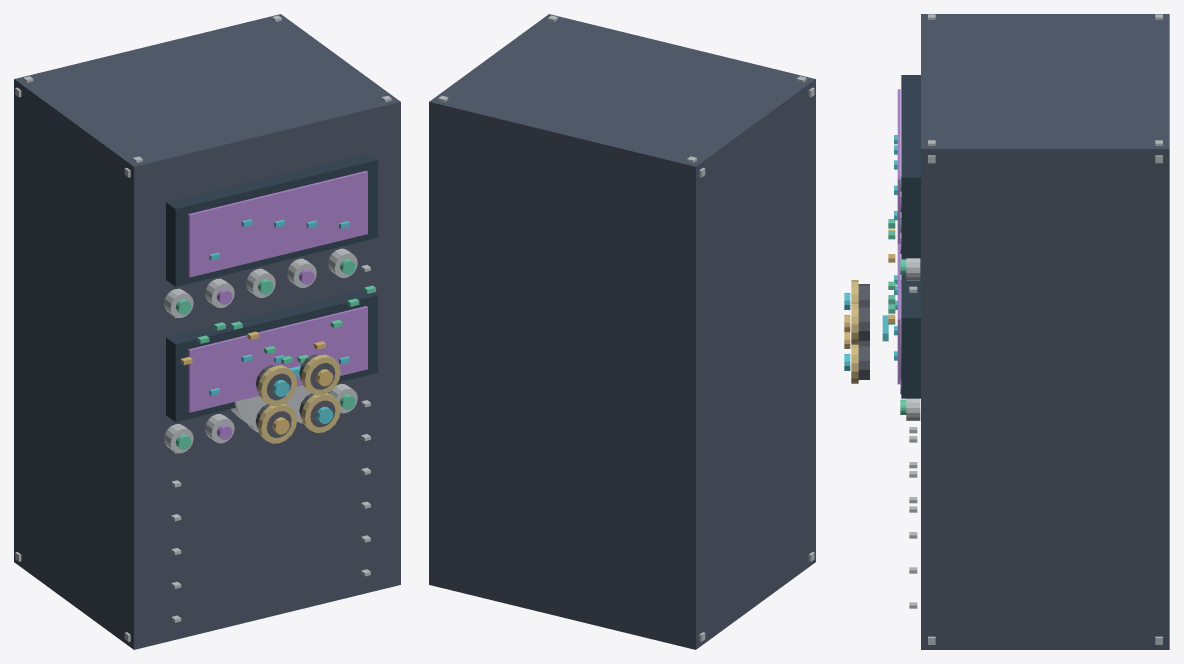
File: 44_L82_ProgrammableRFSweepGenerator.glb
3 views of the same model, side by side, from view 1: azimuth 30°, elevation 25°; view 2: azimuth 150°, elevation 25°; view 3: azimuth 270°, elevation 25° (orthographic). The views are drawn at different scales.
Parts seen in each view (by area): view 1: ProgrammableRFSweepGenerator_Node_0000, ProgrammableRFSweepGenerator_Node_0010, ProgrammableRFSweepGenerator_Node_0027, ProgrammableRFSweepGenerator_Node_0009, ProgrammableRFSweepGenerator_Node_0026, ProgrammableRFSweepGenerator_Node_0081, ProgrammableRFSweepGenerator_Node_0093, ProgrammableRFSweepGenerator_Node_0090, ProgrammableRFSweepGenerator_Node_0084, ProgrammableRFSweepGenerator_Node_0087; view 2: ProgrammableRFSweepGenerator_Node_0000; view 3: ProgrammableRFSweepGenerator_Node_0000, ProgrammableRFSweepGenerator_Node_0009, ProgrammableRFSweepGenerator_Node_0026, ProgrammableRFSweepGenerator_Node_0010, ProgrammableRFSweepGenerator_Node_0027.
Boxes of the visible parts, <box> form: ProgrammableRFSweepGenerator_Node_0000: <box>14,14,400,649</box>; ProgrammableRFSweepGenerator_Node_0010: <box>188,170,367,277</box>; ProgrammableRFSweepGenerator_Node_0027: <box>188,306,367,412</box>; ProgrammableRFSweepGenerator_Node_0009: <box>166,153,378,286</box>; ProgrammableRFSweepGenerator_Node_0026: <box>166,289,378,422</box>; ProgrammableRFSweepGenerator_Node_0081: <box>231,385,310,428</box>; ProgrammableRFSweepGenerator_Node_0093: <box>301,354,340,395</box>; ProgrammableRFSweepGenerator_Node_0090: <box>257,365,297,405</box>; ProgrammableRFSweepGenerator_Node_0084: <box>257,404,297,443</box>; ProgrammableRFSweepGenerator_Node_0087: <box>301,393,340,432</box>; ProgrammableRFSweepGenerator_Node_0000: <box>429,14,815,649</box>; ProgrammableRFSweepGenerator_Node_0000: <box>921,14,1169,649</box>; ProgrammableRFSweepGenerator_Node_0009: <box>901,75,920,258</box>; ProgrammableRFSweepGenerator_Node_0026: <box>901,258,920,398</box>; ProgrammableRFSweepGenerator_Node_0010: <box>897,89,900,243</box>; ProgrammableRFSweepGenerator_Node_0027: <box>897,244,900,384</box>.
Bounding box in the file's own units: 1.06 × 1.82 × 1.06.
